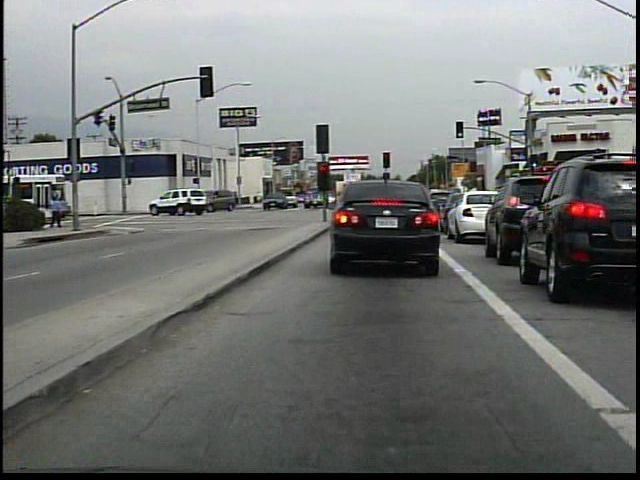person: (50, 192, 69, 233), (257, 188, 265, 209)
